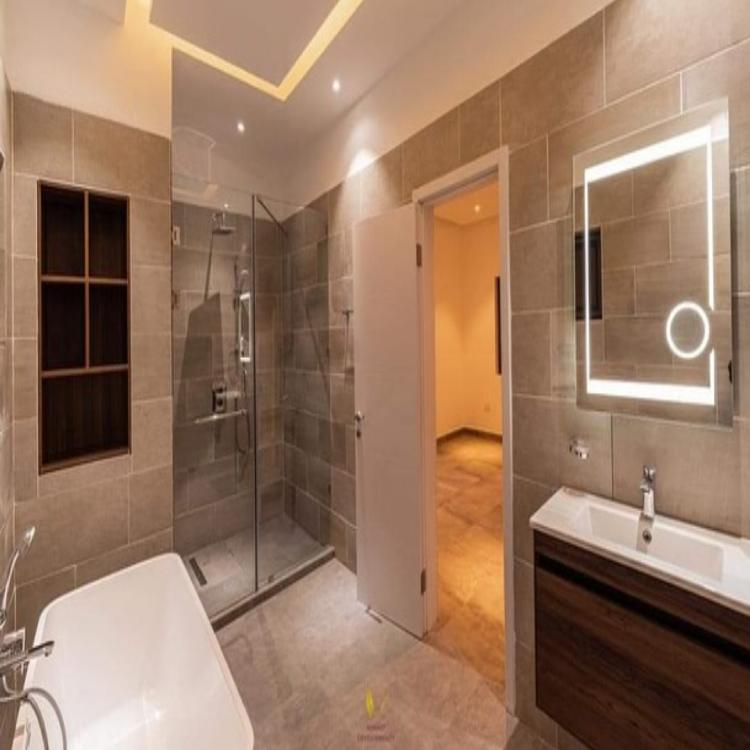OpenDoor: (407, 176, 512, 688)
